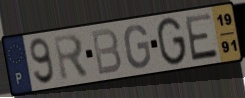9: (28, 36, 57, 87)
B: (89, 27, 123, 77)
E: (183, 11, 220, 63)
G: (156, 16, 188, 68), (123, 23, 153, 70)
R: (52, 32, 91, 83)
